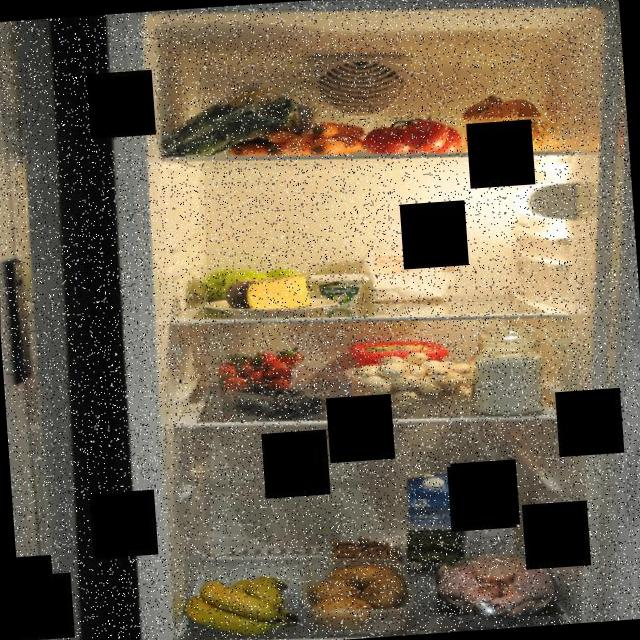Carne pollo: (429, 540, 572, 632)
Cebolla: (462, 90, 552, 158)
Champiñones: (342, 344, 478, 418)
Gambas/Langostinos: (326, 530, 406, 571)
Leche: (401, 467, 474, 580), (456, 468, 524, 578)
Mantequilla: (347, 334, 450, 381)
Manzana: (202, 256, 304, 304)
Patata: (294, 549, 412, 636)
Plátano: (178, 568, 302, 640)
Queso: (224, 270, 316, 316)
Tomate: (362, 110, 468, 162)
Zanahoria: (224, 111, 370, 163)
